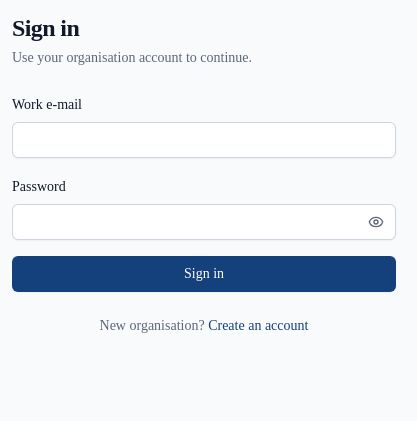
Test: login page › shows the server's error message on bad credentials
Type "a@b.example" into the field labelled "Work e-mail" at (204, 140), box [12, 122, 396, 158]
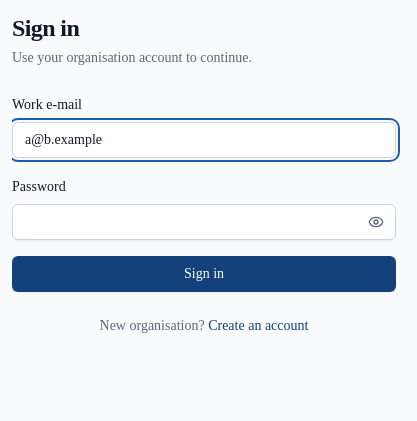
Type "wrong-password1" into the password field labelled "Password" at (204, 222), box [12, 204, 396, 240]
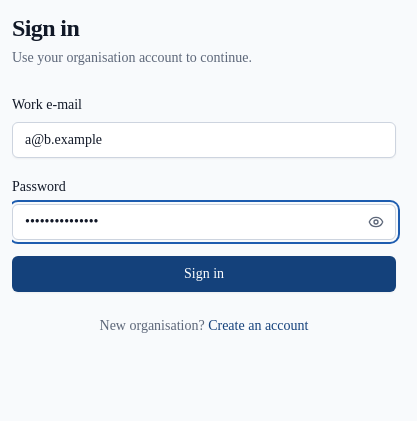
Click the button "Sign in" at (204, 274), box [12, 256, 396, 292]
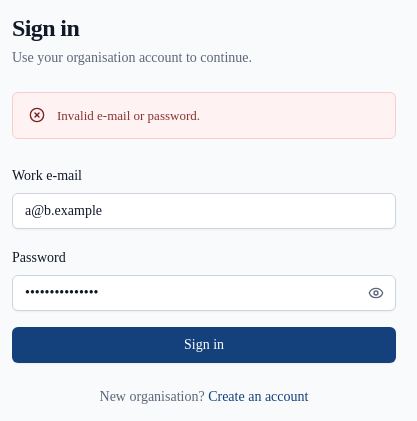
Expected: the text "Invalid e-mail or password." is shown, [57, 105, 200, 126]
